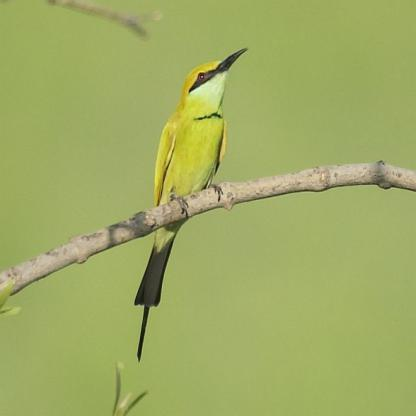Burung: (134, 46, 248, 362)
